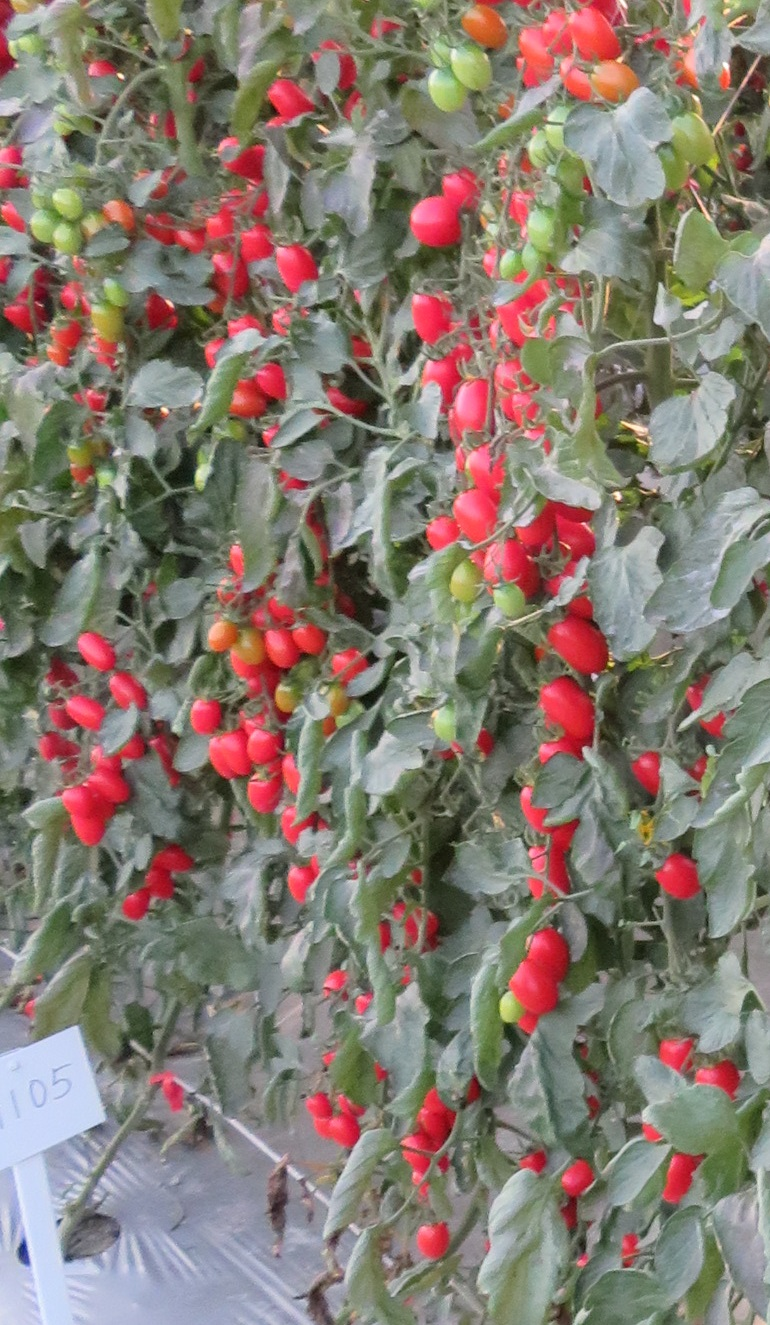green: (673, 116, 719, 165), (452, 44, 494, 94), (272, 676, 309, 716), (542, 103, 570, 153), (46, 188, 88, 221), (87, 304, 122, 342), (452, 556, 479, 605), (426, 71, 456, 114), (493, 586, 531, 615), (527, 209, 554, 248), (50, 221, 80, 256), (64, 436, 93, 468), (26, 208, 54, 241), (239, 629, 264, 662), (434, 706, 455, 745), (99, 279, 128, 307), (494, 991, 519, 1022), (328, 686, 350, 720), (497, 244, 516, 278), (520, 244, 540, 274)
orange: (461, 4, 513, 47), (594, 61, 641, 95), (100, 198, 135, 237), (203, 619, 238, 650), (49, 320, 76, 347)
red: (549, 614, 613, 674), (442, 374, 500, 440), (564, 5, 622, 65), (540, 676, 598, 735), (407, 192, 461, 254), (264, 73, 318, 128), (207, 246, 255, 306), (510, 961, 561, 1011), (654, 853, 701, 904), (410, 286, 456, 335), (451, 492, 500, 538), (694, 1059, 741, 1106), (531, 922, 569, 980), (60, 698, 114, 738), (103, 668, 151, 711), (521, 23, 564, 70), (214, 136, 257, 181), (276, 241, 317, 286), (73, 630, 118, 670), (444, 168, 485, 211), (660, 1155, 694, 1206), (415, 1220, 456, 1262), (4, 296, 46, 336), (630, 750, 666, 796), (286, 855, 318, 905), (38, 732, 78, 772), (251, 359, 290, 400), (398, 1133, 437, 1174), (227, 377, 266, 418), (657, 1035, 694, 1077), (278, 802, 311, 847), (56, 784, 99, 817), (423, 516, 457, 557), (246, 768, 279, 810), (291, 623, 328, 660), (563, 1159, 597, 1199), (143, 867, 178, 905), (223, 311, 264, 343), (186, 698, 222, 732), (330, 647, 366, 681), (174, 222, 208, 257), (92, 775, 132, 804), (261, 630, 291, 668), (159, 844, 193, 877), (87, 747, 122, 776), (66, 818, 103, 844), (331, 1115, 361, 1147), (222, 732, 246, 772), (249, 725, 276, 760), (122, 886, 149, 920), (229, 536, 249, 580), (1, 148, 23, 188), (303, 1090, 330, 1121), (518, 1150, 548, 1177)
